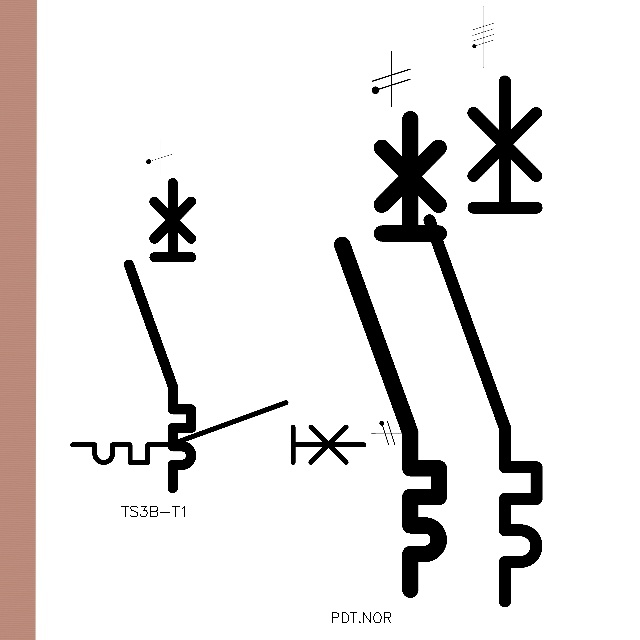interruptor_termomagnetico: (416, 67, 550, 614), (330, 107, 451, 602), (121, 175, 199, 495), (65, 395, 371, 470)
